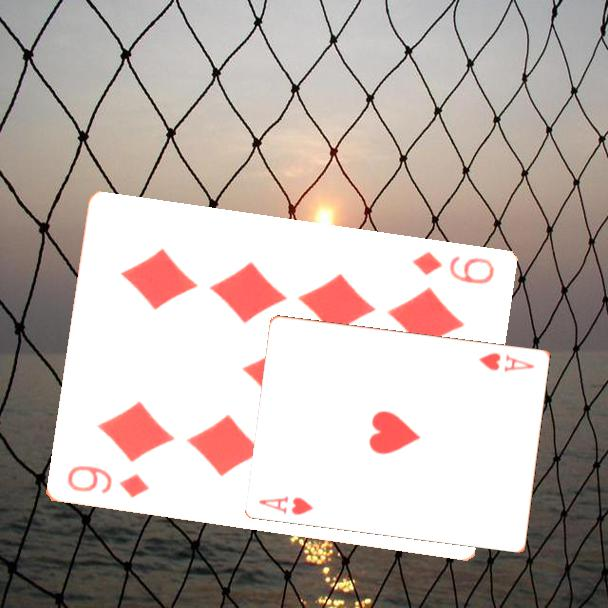d09: (408, 248, 497, 288), (63, 462, 152, 501)
h01: (475, 349, 537, 375), (256, 492, 317, 518)
